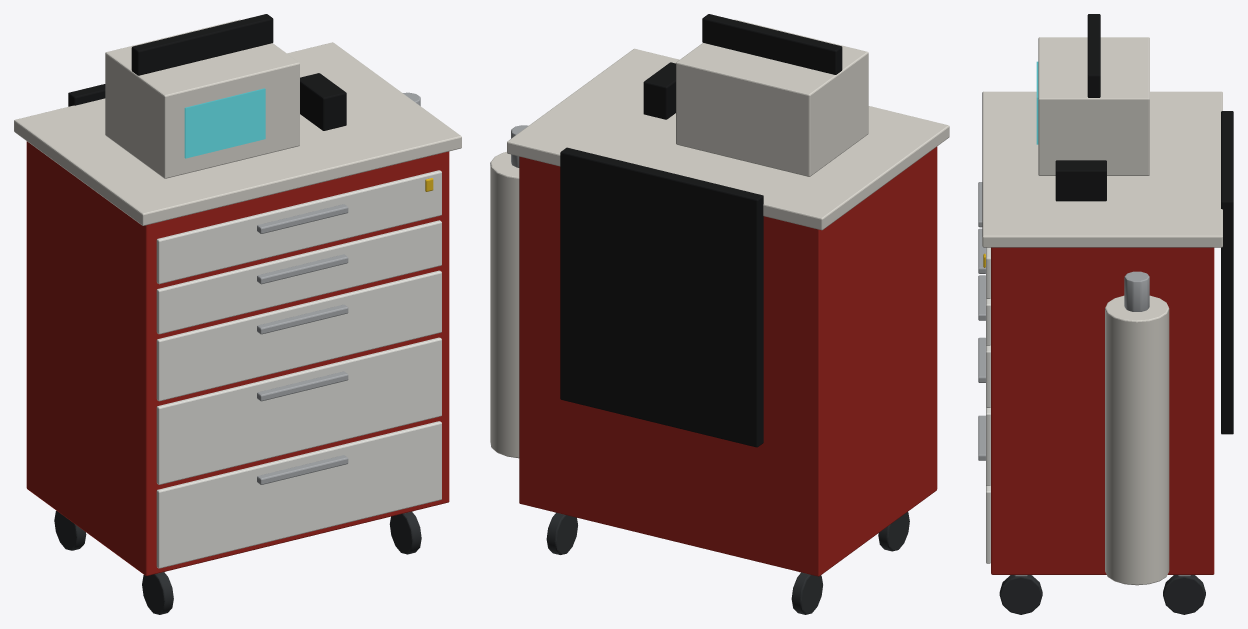
The model's file is PROP_Cart_Crash_Resus.glb.
3 renders of one model, left to right at view 1: azimuth 30°, elevation 25°; view 2: azimuth 150°, elevation 25°; view 3: azimuth 270°, elevation 25°, orthographic. The views are drawn at different scales.
Parts seen in each view (by area): view 1: PROP_Cart_Crash_Resus_Mesh, PROP_Cart_Crash_Resus_DefibScreen; view 2: PROP_Cart_Crash_Resus_Mesh; view 3: PROP_Cart_Crash_Resus_Mesh.
Boxes of the visible parts, x1=… form: PROP_Cart_Crash_Resus_Mesh: x1=14, y1=14, x2=461, y2=614; PROP_Cart_Crash_Resus_DefibScreen: x1=184, y1=88, x2=265, y2=158; PROP_Cart_Crash_Resus_Mesh: x1=490, y1=14, x2=949, y2=614; PROP_Cart_Crash_Resus_Mesh: x1=978, y1=14, x2=1233, y2=614.
Size of what is drawn, in the model's own units: 0.945 by 1.27 by 0.595.
